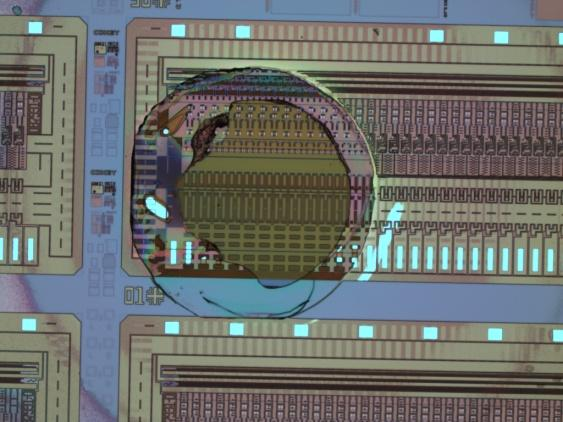BLOCK ETCH: (123, 61, 380, 325)
